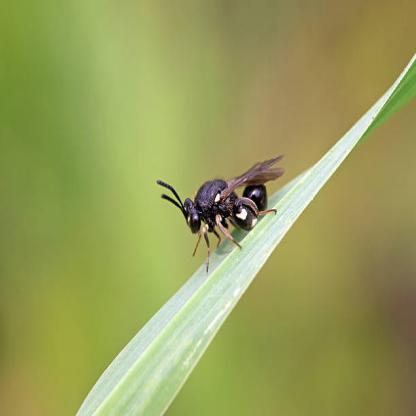sawfly: (155, 149, 291, 276)
